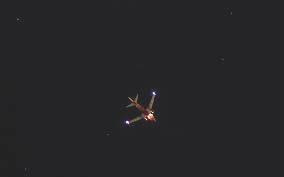Plane: (98, 76, 186, 135)
